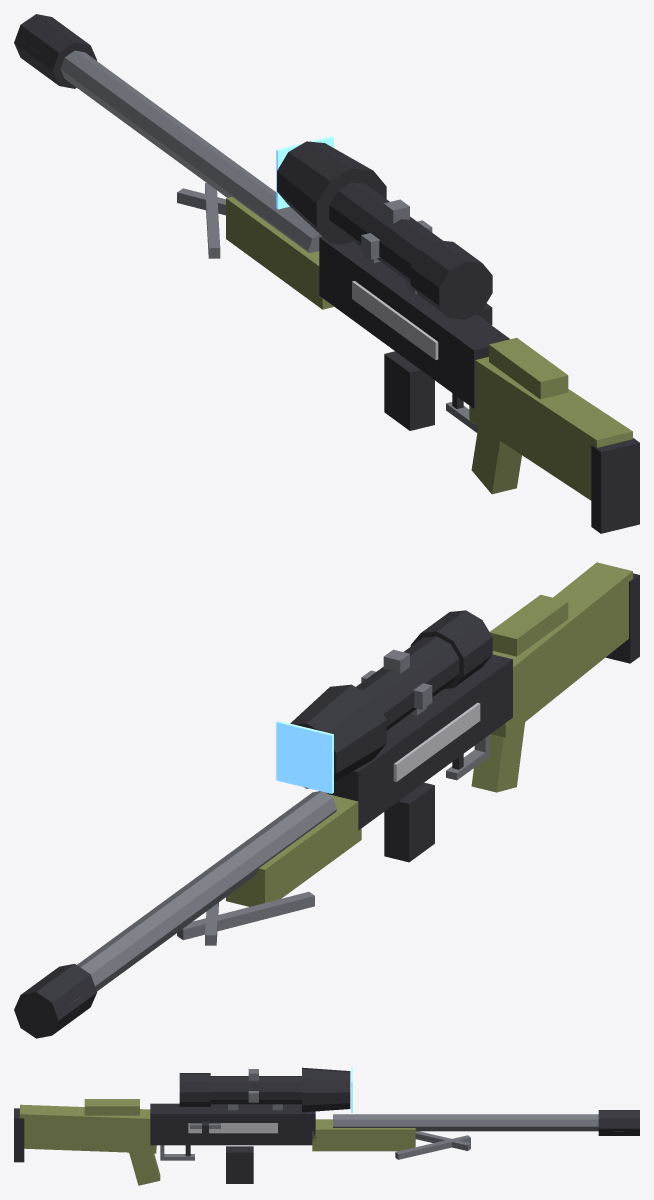
File: sniper.glb
The picture shows the model from 3 angles, top to bottom: view 1: azimuth 30°, elevation 25°; view 2: azimuth 150°, elevation 25°; view 3: azimuth 270°, elevation 25°; orthographic projection. The views are drawn at different scales.
Visible parts, largest first — view 1: Sniper; view 2: Sniper; view 3: Sniper.
Boxes of the visible parts, x1,y1,x2,y2 form: Sniper: (14, 14, 639, 533); Sniper: (14, 562, 639, 1038); Sniper: (14, 1067, 639, 1185).
Size of the model in its own units: 0.1909 by 0.3619 by 1.81.
